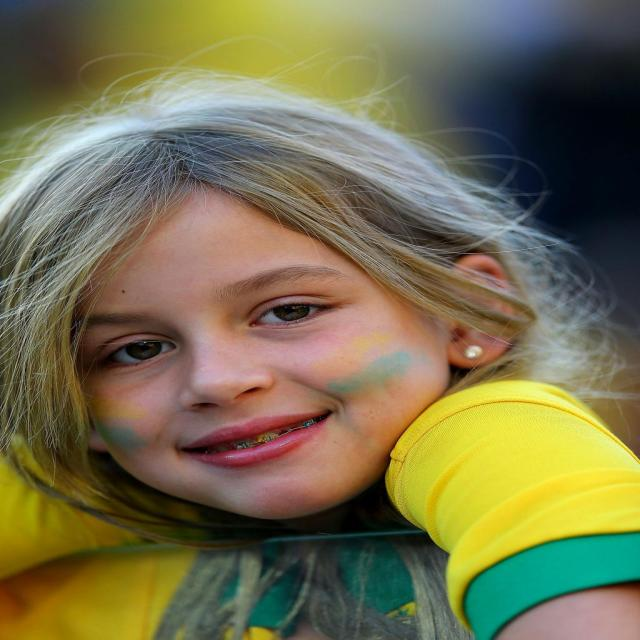nomask: (80, 197, 402, 502)
